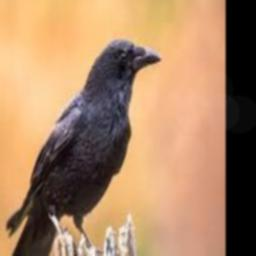Crow: (4, 40, 162, 256)
